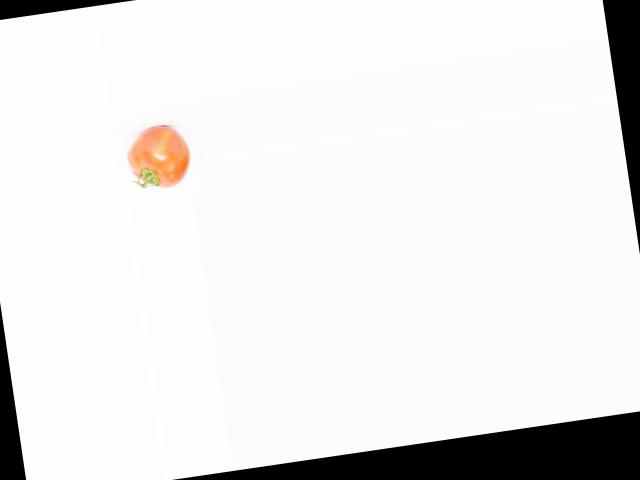tomato: (123, 122, 194, 193)
